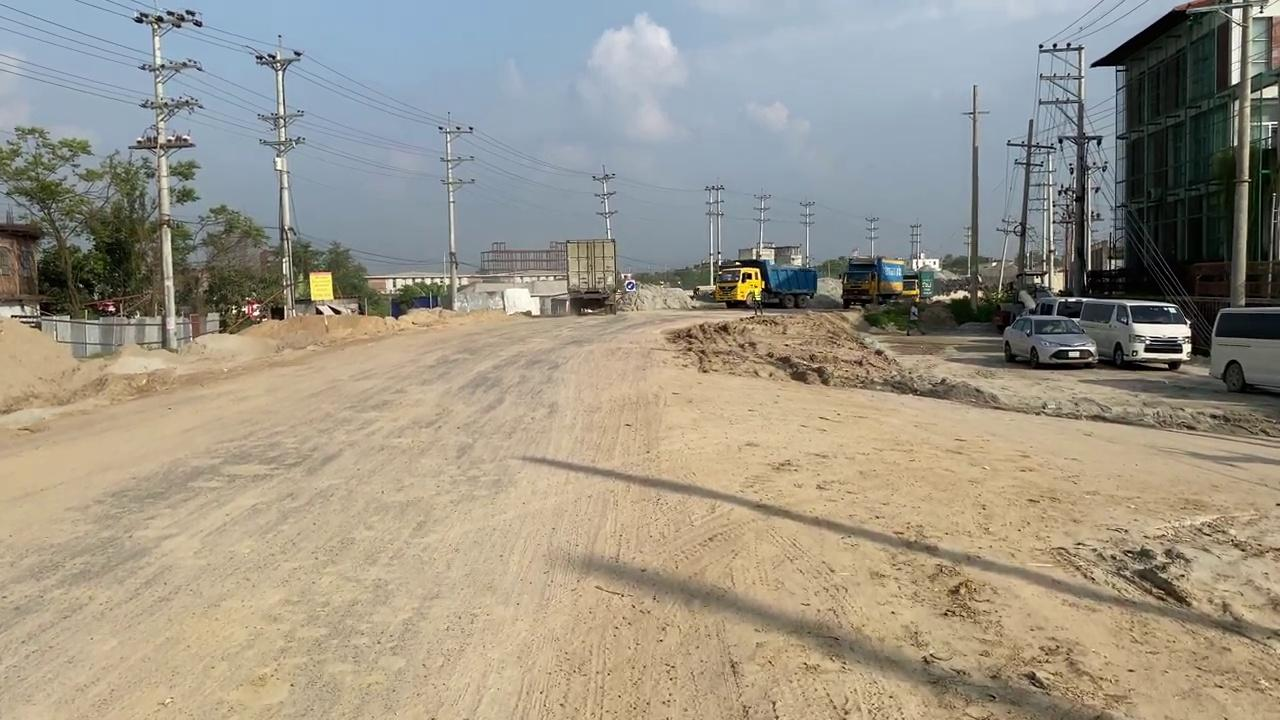Car: (1004, 305, 1091, 365)
Fence: (29, 311, 222, 358)
Muddy road: (538, 274, 1166, 450)
Obstacle: (455, 237, 617, 316), (502, 285, 614, 316)
Pole: (131, 7, 203, 350), (253, 37, 304, 318), (1228, 3, 1254, 306), (437, 112, 474, 310), (962, 84, 990, 311)
Tree: (692, 185, 818, 309), (713, 257, 818, 308), (839, 255, 920, 309), (564, 238, 618, 315), (993, 270, 1055, 333), (713, 264, 765, 309)
